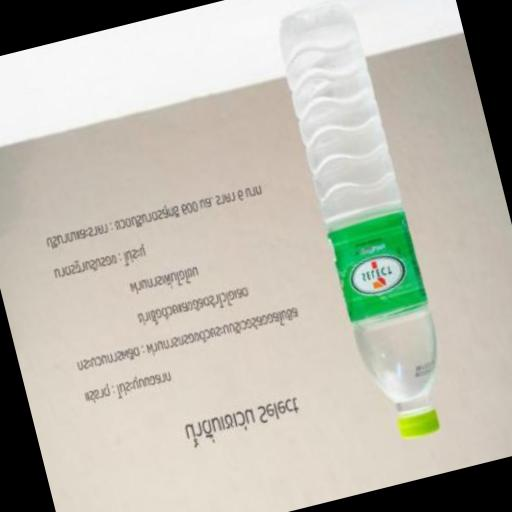Coca: (269, 0, 464, 453)
